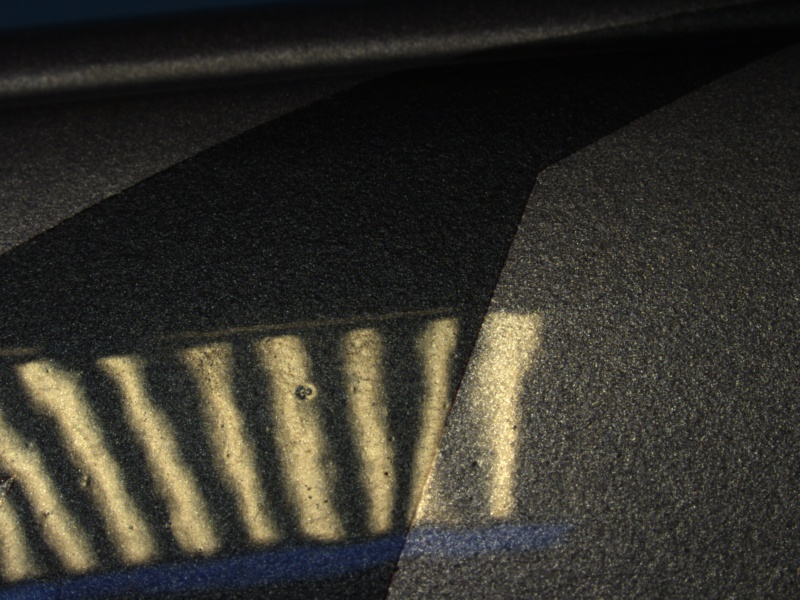bad: (290, 377, 319, 408)
